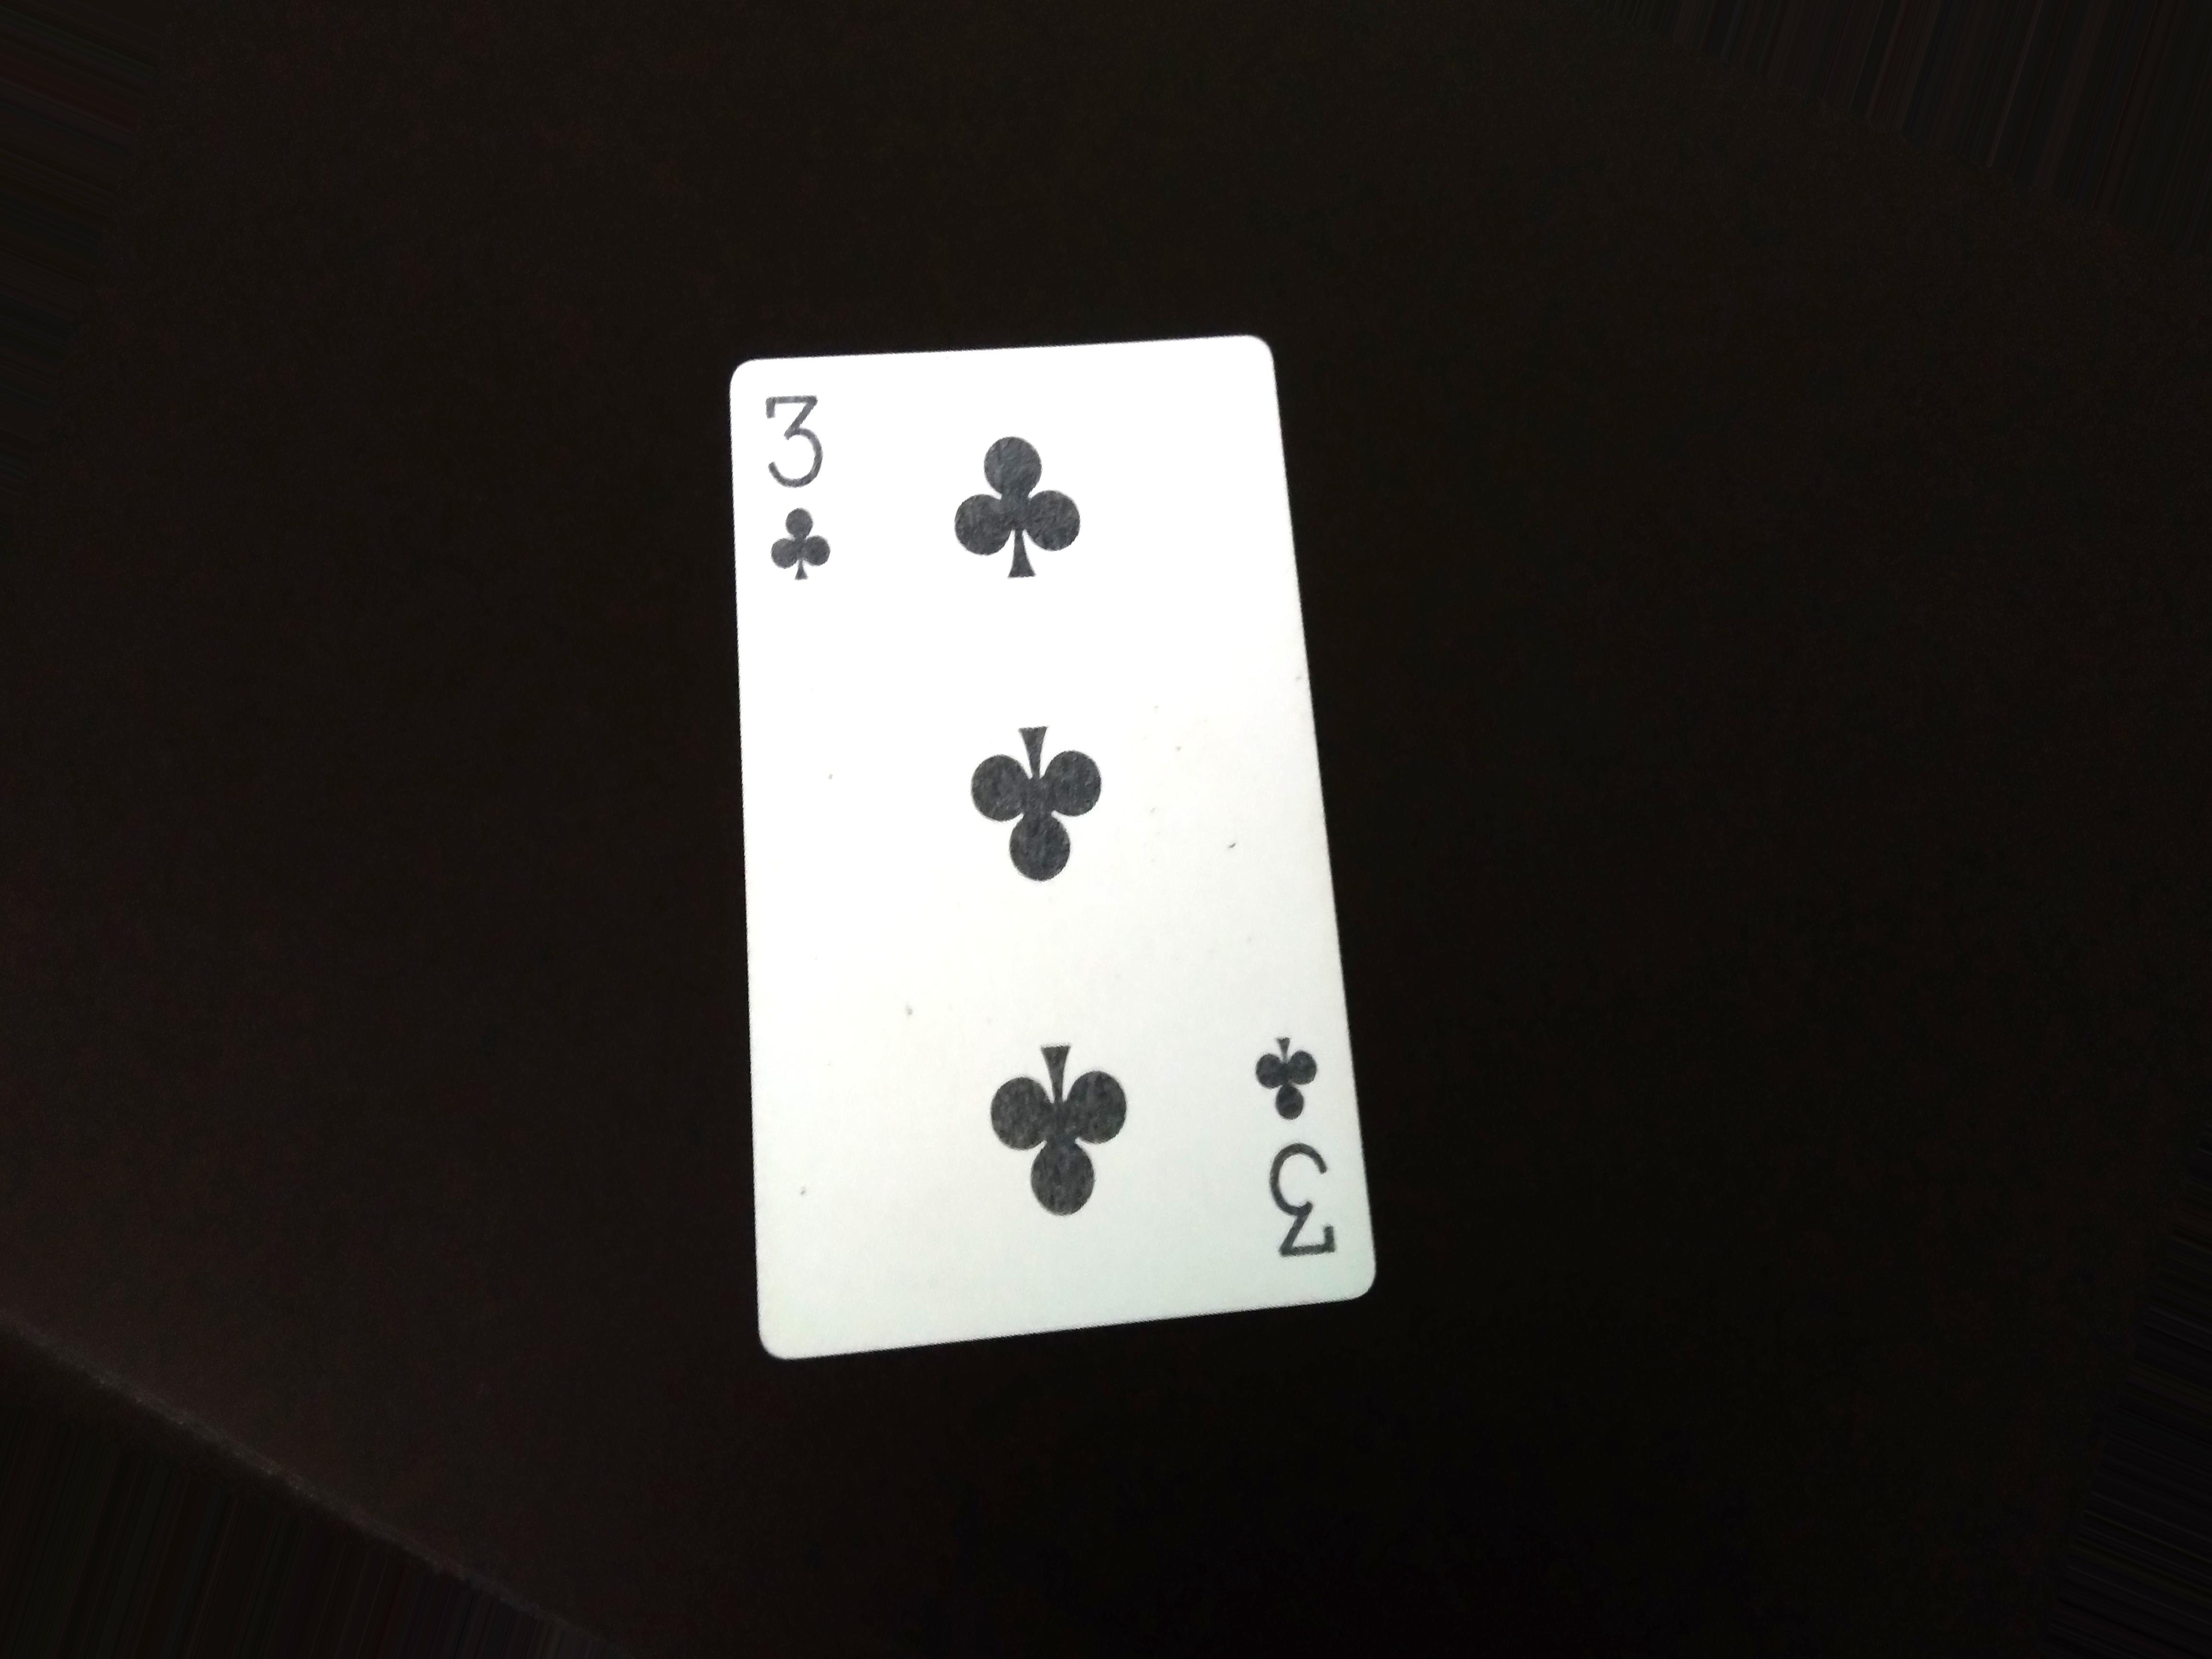3C: (747, 382, 883, 572)
